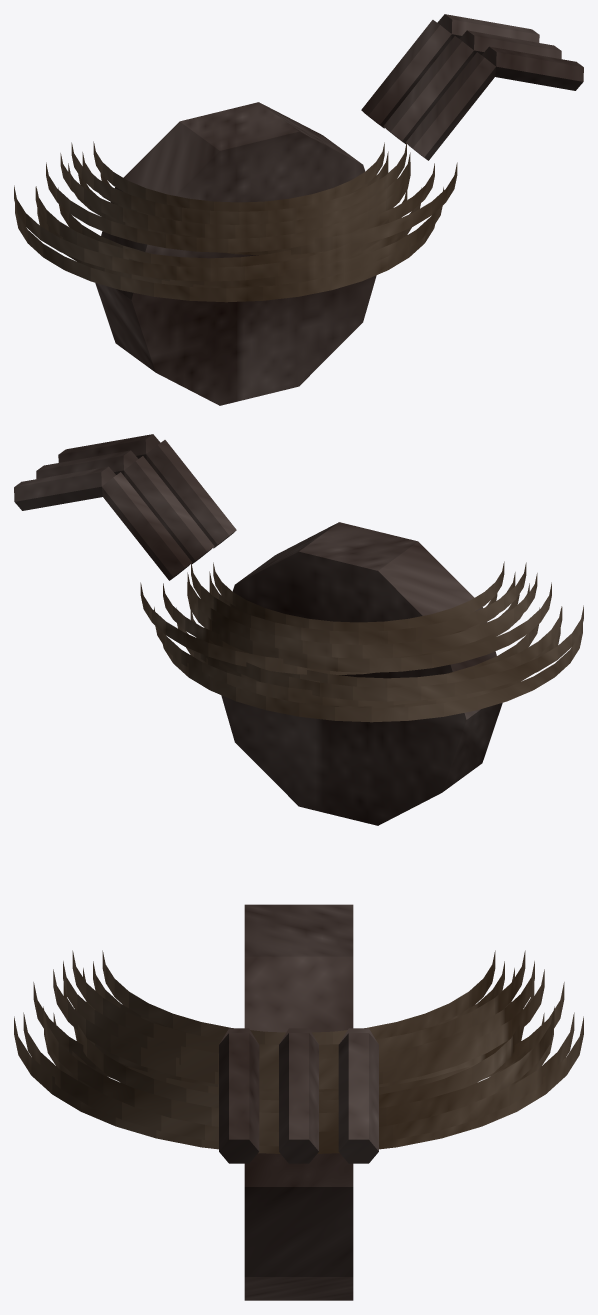
File: 0973_rope_coil_23.glb
3 views of the same model, one above another, from view 1: azimuth 30°, elevation 25°; view 2: azimuth 150°, elevation 25°; view 3: azimuth 270°, elevation 25° (orthographic). The views are drawn at different scales.
Visible parts, largest first — view 1: wood_dark, wood; view 2: wood_dark, wood; view 3: wood, wood_dark.
Part boxes in pixels (box(x1,y1,x2,y2)): wood_dark: box(95, 14, 583, 405); wood: box(14, 141, 457, 302); wood_dark: box(14, 434, 502, 825); wood: box(140, 561, 583, 722); wood: box(14, 950, 583, 1153); wood_dark: box(219, 904, 378, 1300).
Size of the model in its own units: 1.48 by 0.7983 by 1.05.
2 materials, 2 textured.
